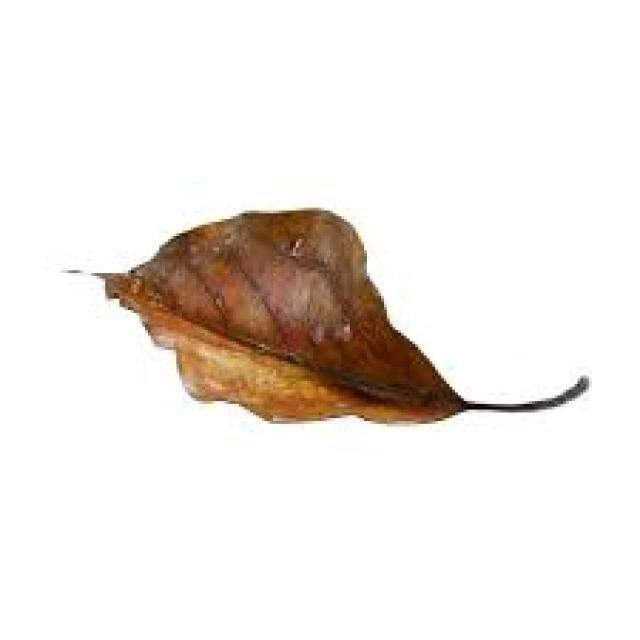leaf: (61, 206, 590, 425)
